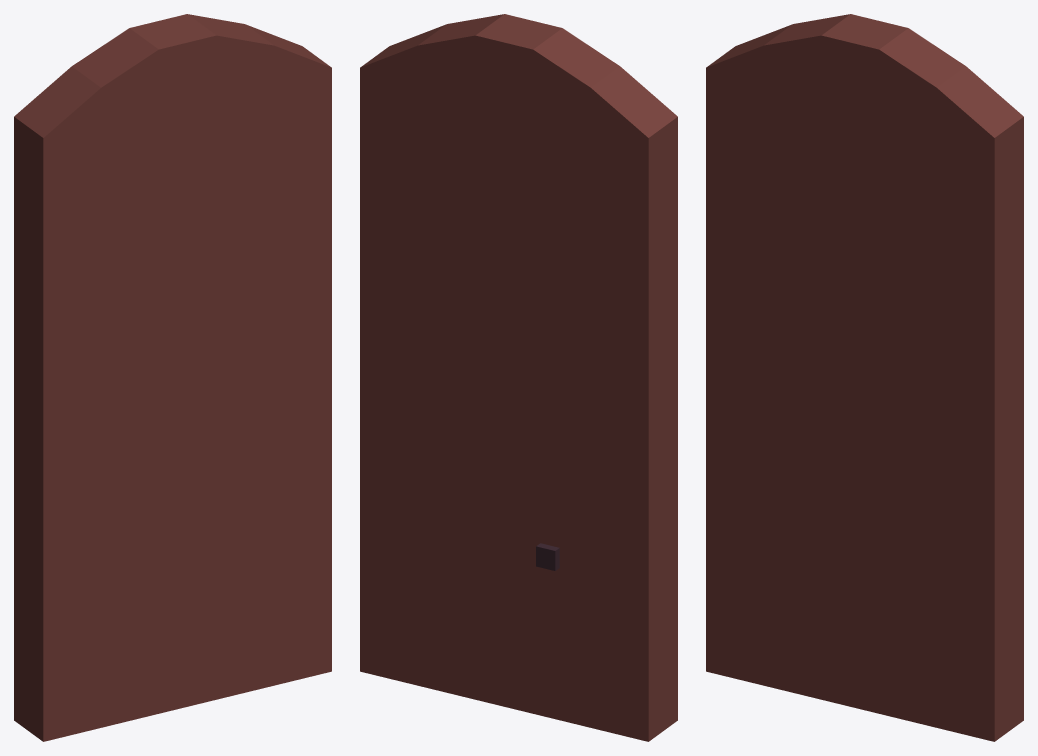
The model's file is door.fbx.
3 renders of one model, left to right at view 1: azimuth 30°, elevation 25°; view 2: azimuth 150°, elevation 25°; view 3: azimuth 330°, elevation 25°, orthographic.
Visible parts, largest first — view 1: Cube.027; view 2: Cube.027, Cube.026; view 3: Cube.027.
Boxes of the visible parts, x1,y1,x2,y2 form: Cube.027: (14,14,331,741); Cube.027: (360,14,677,741); Cube.026: (536,543,559,570); Cube.027: (706,14,1023,741).
Bounding box in the file's own units: 0.8191 × 1.8 × 0.166.
